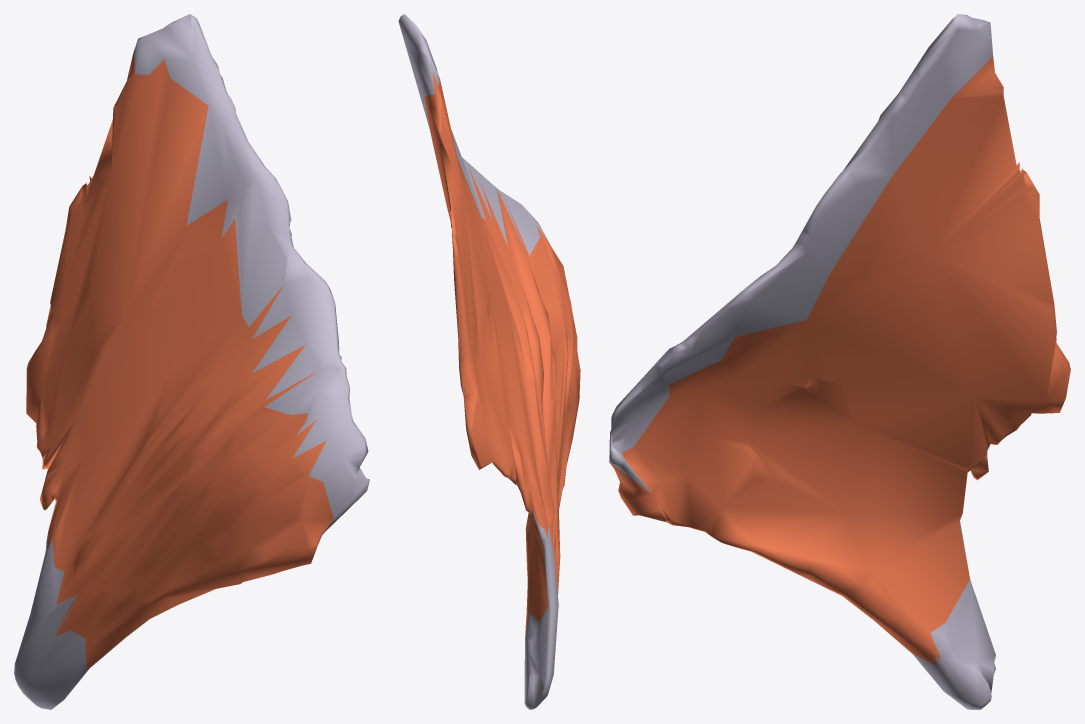
File: Nasalis_muscle.r_Generated_Mesh_From_X3D.337.glb
The picture shows the model from 3 angles, left to right: view 1: azimuth 30°, elevation 25°; view 2: azimuth 150°, elevation 25°; view 3: azimuth 270°, elevation 25°; orthographic projection. The views are drawn at different scales.
Parts seen in each view (by area): view 1: Nasalis_muscle.r_Generated_Mesh_From_X3D.337; view 2: Nasalis_muscle.r_Generated_Mesh_From_X3D.337; view 3: Nasalis_muscle.r_Generated_Mesh_From_X3D.337.
Part boxes in pixels (x1=…): Nasalis_muscle.r_Generated_Mesh_From_X3D.337: x1=14, y1=14, x2=369, y2=709; Nasalis_muscle.r_Generated_Mesh_From_X3D.337: x1=398, y1=14, x2=580, y2=709; Nasalis_muscle.r_Generated_Mesh_From_X3D.337: x1=609, y1=14, x2=1070, y2=709.
Size of the model in its own units: 0.0133 by 0.0403 by 0.0218.
